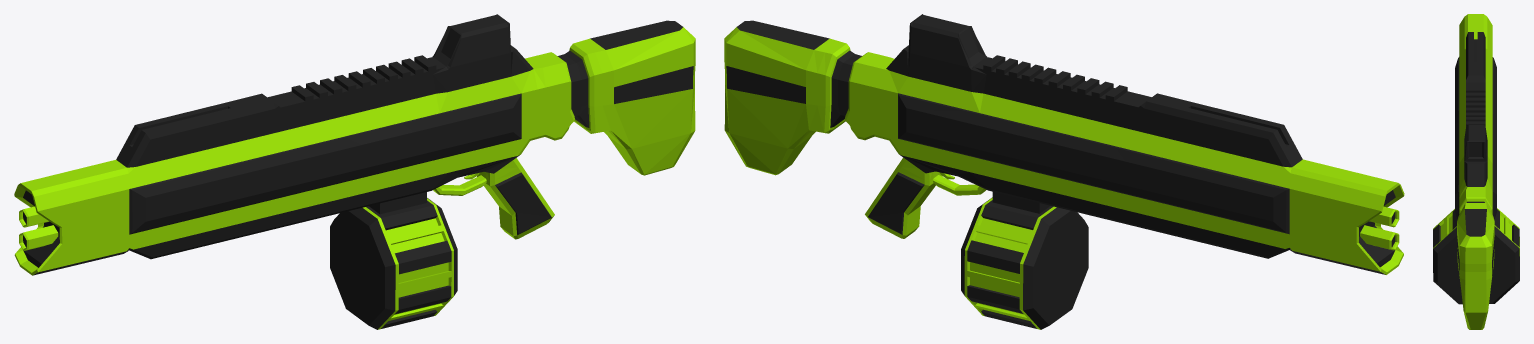
File: shotgun.fbx
3 renders of one model, left to right at view 1: azimuth 30°, elevation 25°; view 2: azimuth 150°, elevation 25°; view 3: azimuth 270°, elevation 25°, orthographic. The views are drawn at different scales.
Parts seen in each view (by area): view 1: shotgun; view 2: shotgun; view 3: shotgun.
Part boxes in pixels (box(x1,y1,x2,y2)): shotgun: box(14, 14, 695, 329); shotgun: box(724, 14, 1404, 329); shotgun: box(1433, 14, 1519, 329).
Bounding box in the file's own units: 83.72 × 32.38 × 13.4.
